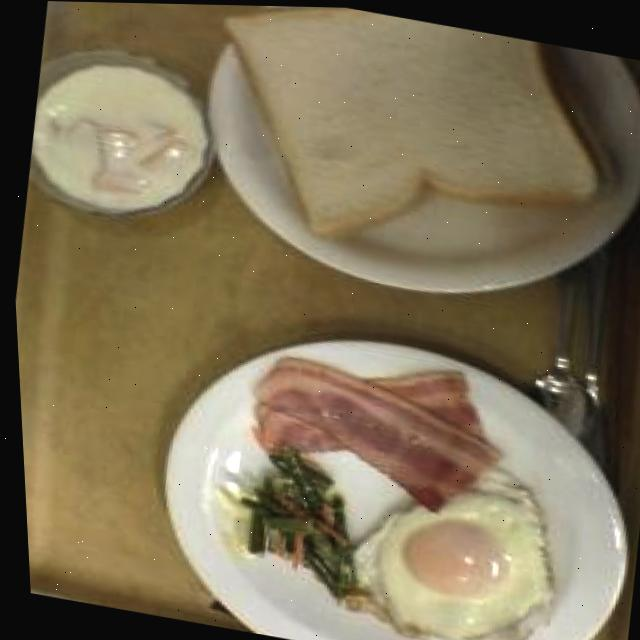鸡蛋料理: (337, 457, 553, 640)
